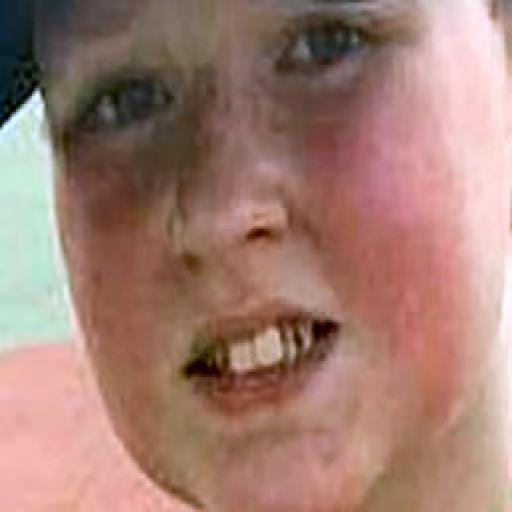Autism: (9, 8, 512, 504)
